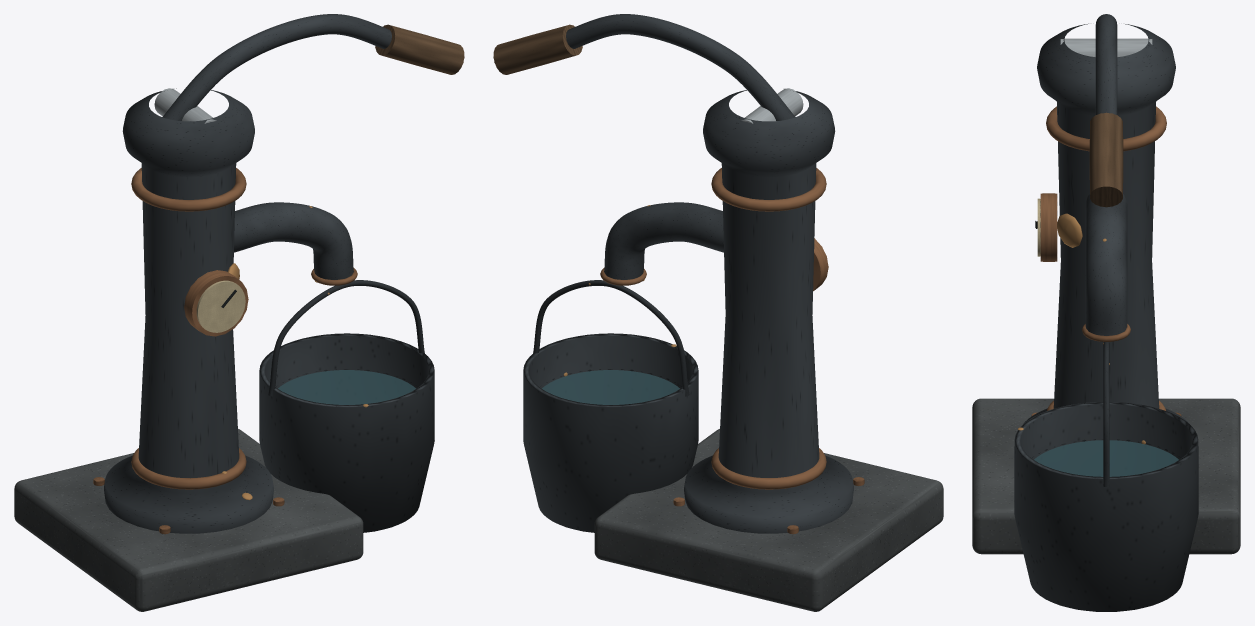
3 renders of one model, left to right at view 1: azimuth 30°, elevation 25°; view 2: azimuth 150°, elevation 25°; view 3: azimuth 270°, elevation 25°, orthographic. The views are drawn at different scales.
Parts seen in each view (by area): view 1: forged iron (×2), dressed stone, aged brass fittings, still water, worn timber edges, parchment, blackened strap iron, machined steel; view 2: forged iron (×2), dressed stone, aged brass fittings, still water, worn timber edges, blackened strap iron, machined steel; view 3: forged iron (×2), dressed stone, still water, aged brass fittings, worn timber edges, blackened strap iron, machined steel, peened pin.
Boxes of the visible parts, x1=… form: forged iron (×2): x1=104, y1=14, x2=434, y2=533; dressed stone: x1=14, y1=429, x2=363, y2=611; aged brass fittings: x1=93, y1=168, x2=357, y2=534; still water: x1=278, y1=370, x2=415, y2=404; worn timber edges: x1=375, y1=24, x2=464, y2=74; parchment: x1=196, y1=280, x2=245, y2=332; blackened strap iron: x1=268, y1=280, x2=424, y2=396; machined steel: x1=154, y1=88, x2=216, y2=123; forged iron (×2): x1=523, y1=14, x2=853, y2=533; dressed stone: x1=594, y1=429, x2=943, y2=611; aged brass fittings: x1=600, y1=168, x2=864, y2=534; still water: x1=542, y1=370, x2=679, y2=404; worn timber edges: x1=493, y1=24, x2=582, y2=74; blackened strap iron: x1=533, y1=280, x2=689, y2=396; machined steel: x1=741, y1=88, x2=803, y2=123; forged iron (×2): x1=1014, y1=14, x2=1198, y2=611; dressed stone: x1=972, y1=398, x2=1240, y2=554; still water: x1=1034, y1=440, x2=1178, y2=476; aged brass fittings: x1=1031, y1=106, x2=1181, y2=416; worn timber edges: x1=1089, y1=112, x2=1123, y2=207; blackened strap iron: x1=1032, y1=342, x2=1180, y2=486; machined steel: x1=1060, y1=38, x2=1152, y2=56; peened pin: x1=1018, y1=213, x2=1106, y2=430.
Size of the model in its own units: 0.6098 by 0.7527 by 0.35.
Materials: 10 (7 with a texture image).
